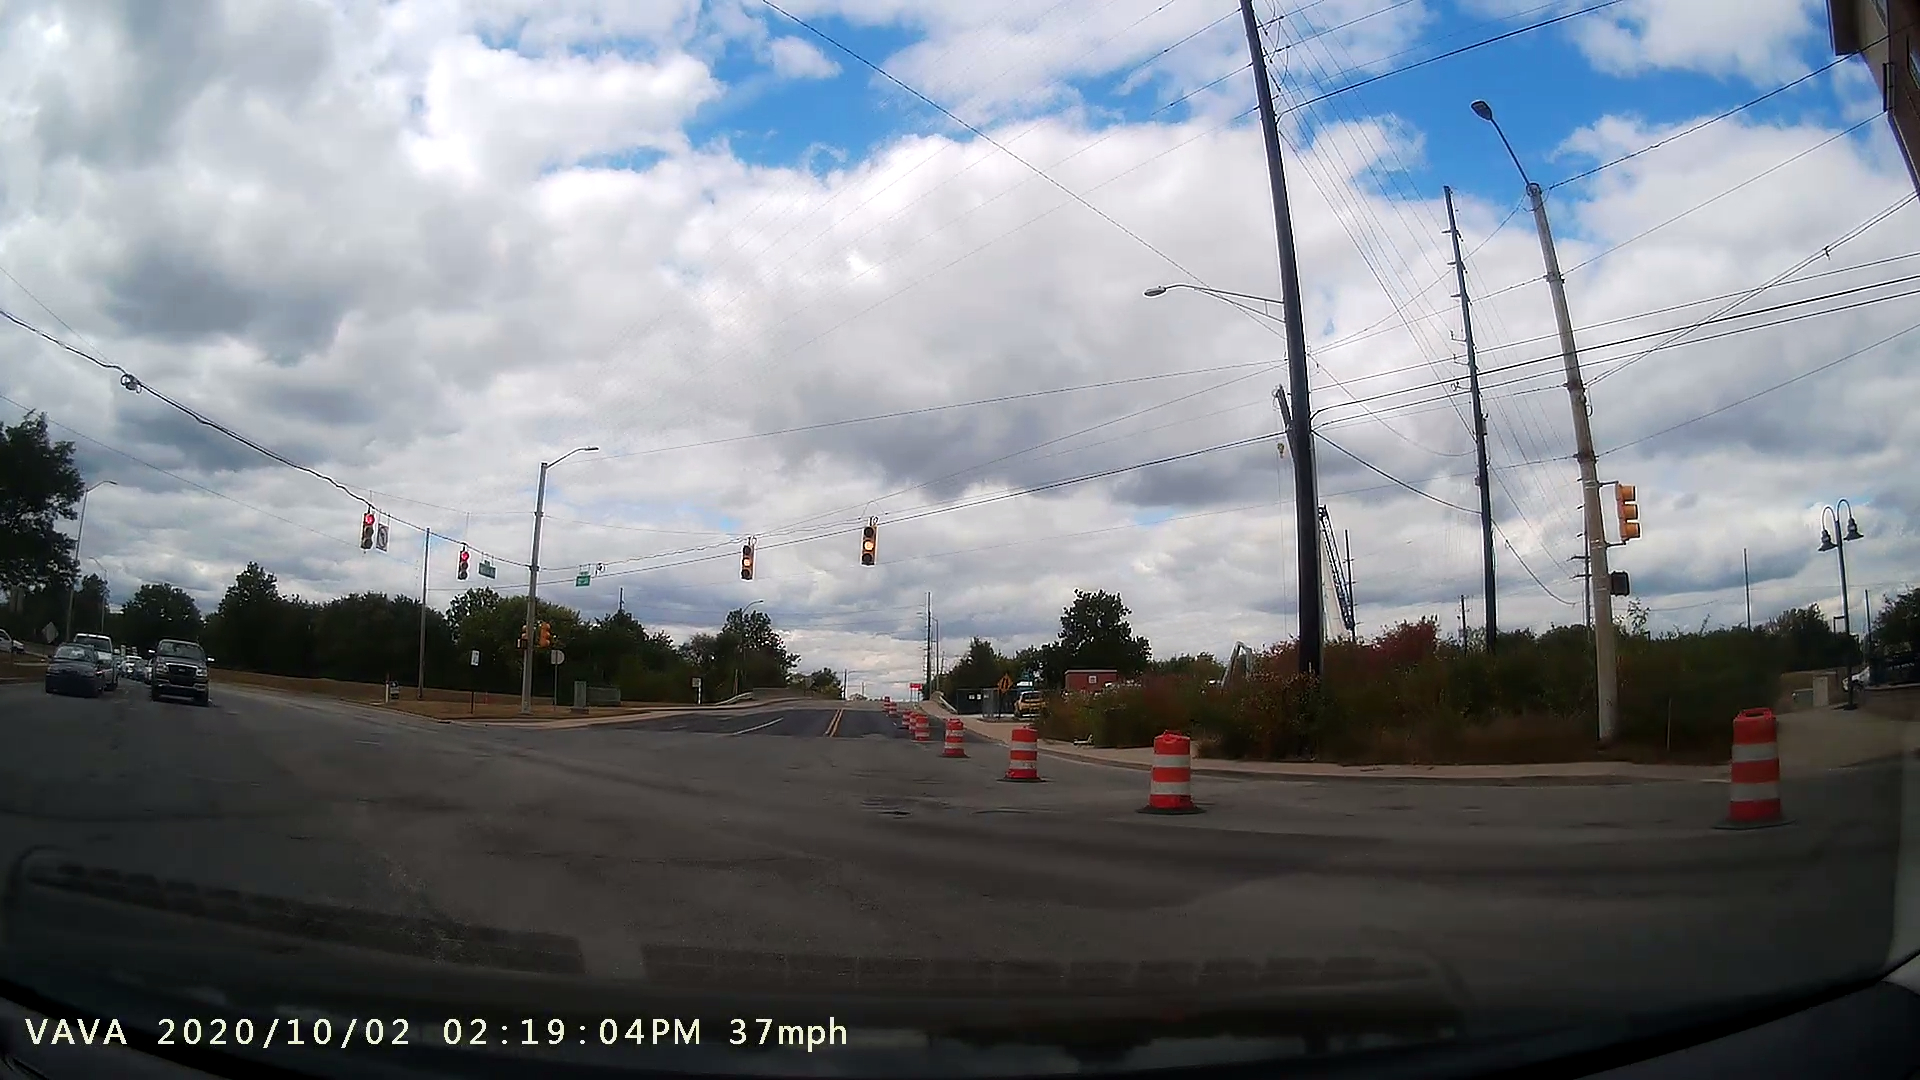const_barrel: (1708, 683, 1815, 848), (1120, 711, 1218, 825), (993, 704, 1063, 794), (928, 702, 980, 766)
